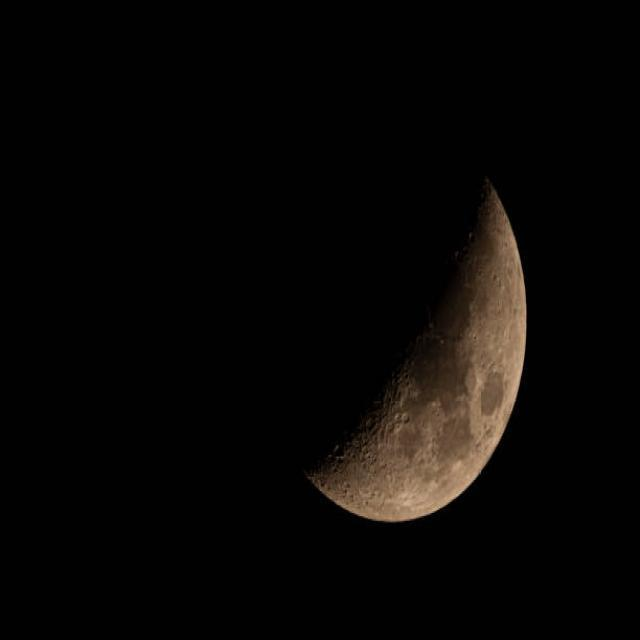moon: (247, 84, 528, 516)
